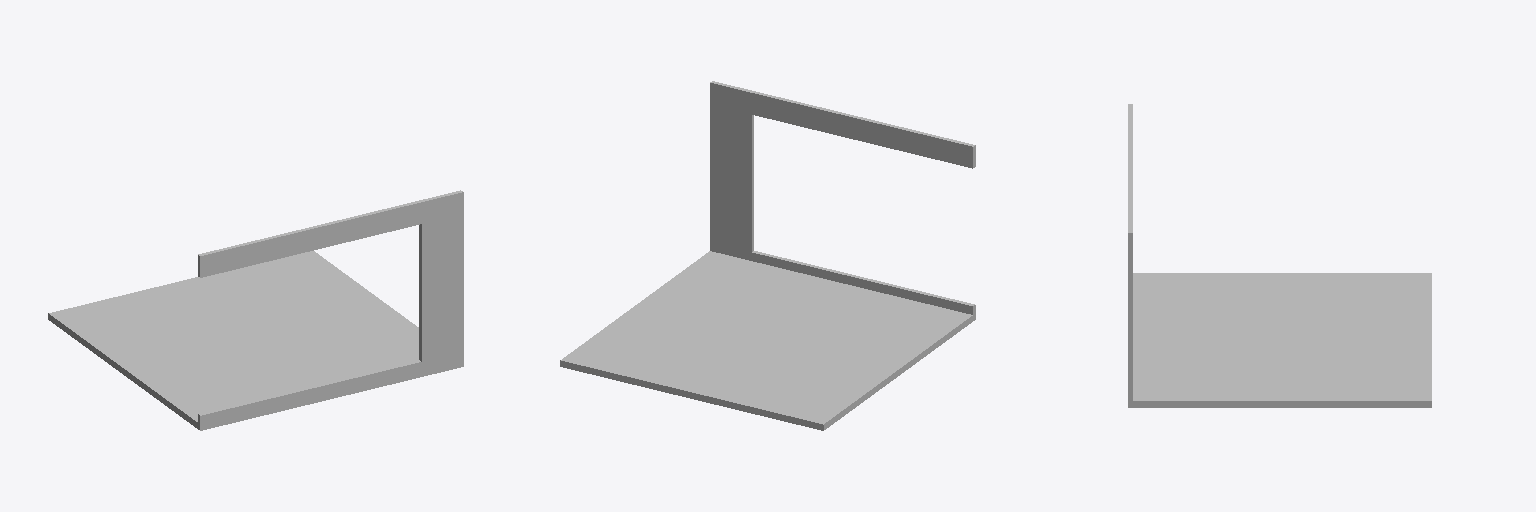
Rendered from 4x2 third-3.obj.
3 views of the same model, side by side, from view 1: azimuth 30°, elevation 25°; view 2: azimuth 150°, elevation 25°; view 3: azimuth 270°, elevation 25° (orthographic).
Parts seen in each view (by area): view 1: 4x2 third-3; view 2: 4x2 third-3; view 3: 4x2 third-3.
Part boxes in pixels (x1,y1,x2,y2): 4x2 third-3: (48, 190, 463, 430); 4x2 third-3: (560, 81, 975, 430); 4x2 third-3: (1128, 104, 1431, 407).
Size of the model in its own units: 126 by 80 by 126.